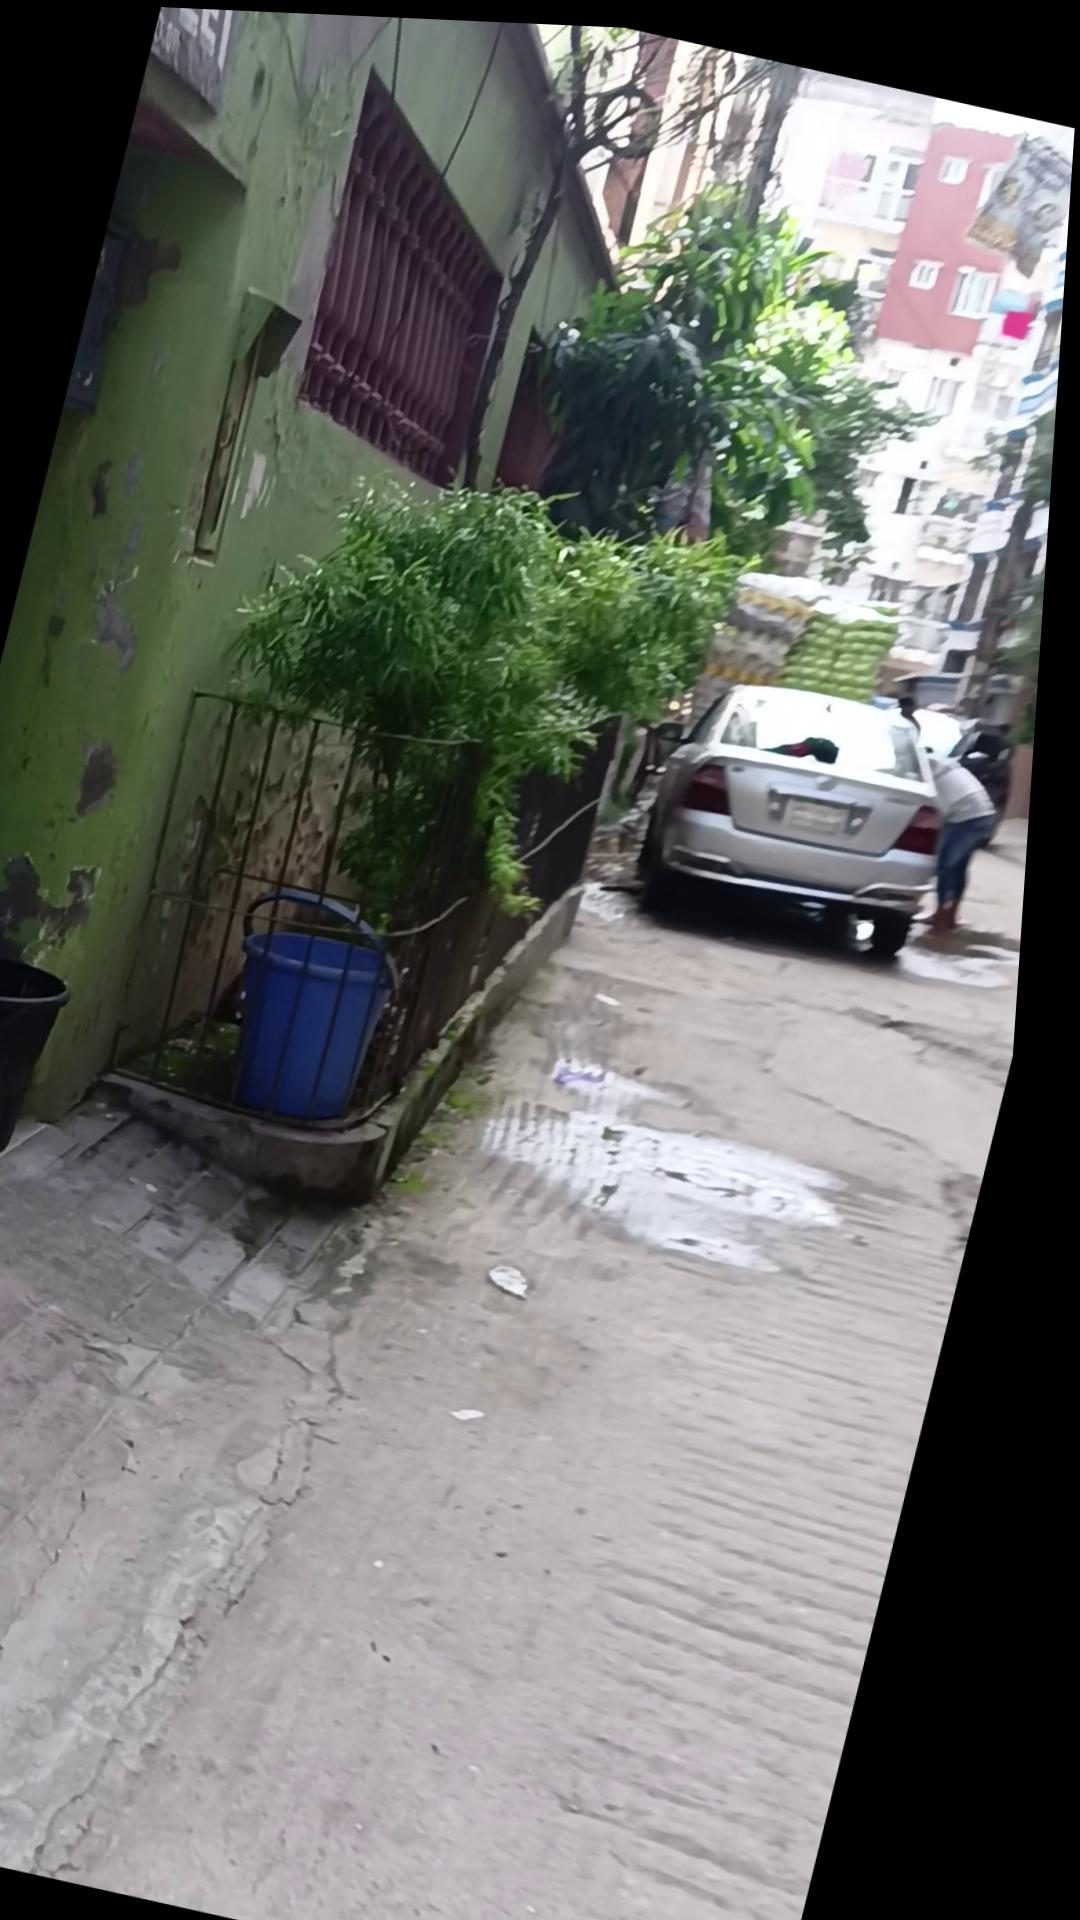Broken-road: (0, 616, 1048, 1920)
Car: (632, 650, 985, 960)
Crosswalk: (94, 778, 607, 1250)
Garbage: (210, 873, 427, 1134), (0, 938, 92, 1178)
Muddy road: (899, 740, 1019, 926), (894, 682, 936, 724)
